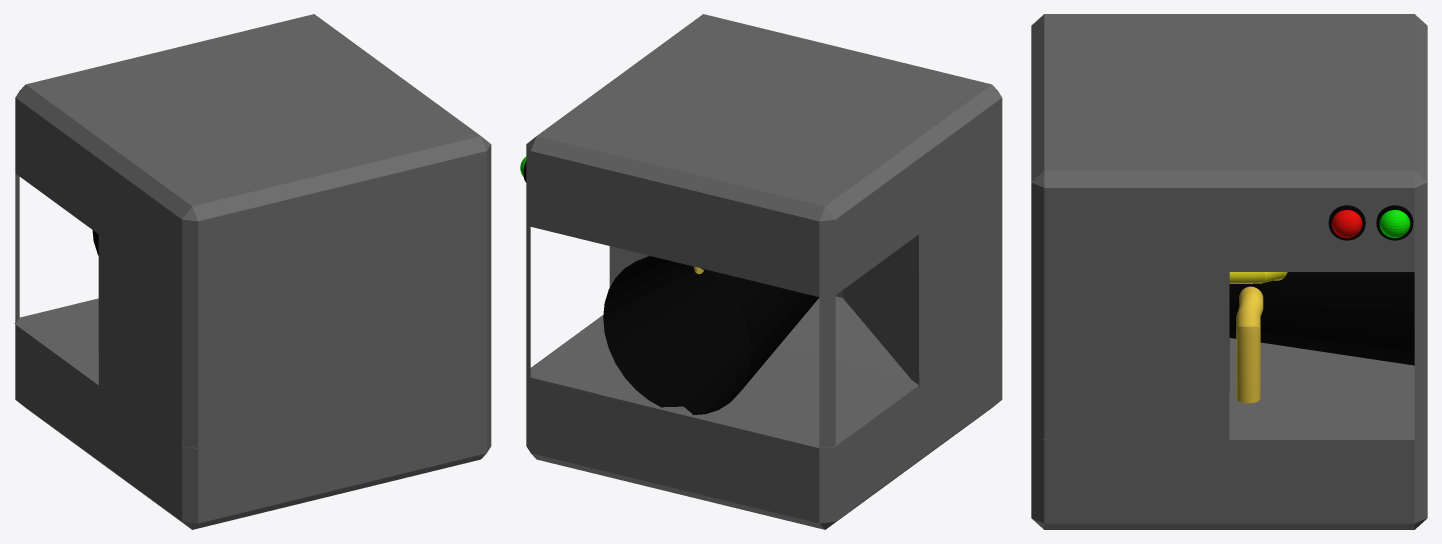
File: jetEngineCube.fbx
The picture shows the model from 3 angles, left to right: view 1: azimuth 30°, elevation 25°; view 2: azimuth 150°, elevation 25°; view 3: azimuth 270°, elevation 25°; orthographic projection. The views are drawn at different scales.
Visible parts, largest first — view 1: Cube; view 2: Cube, Cylinder.002; view 3: Cube, Cylinder.002, Cylinder.003, Sphere, Sphere.001, Cylinder.004.
Boxes of the visible parts, <box> form: Cube: <box>14,14,491,529</box>; Cube: <box>526,14,1002,529</box>; Cylinder.002: <box>603,256,819,414</box>; Cube: <box>1031,14,1427,529</box>; Cylinder.002: <box>1229,272,1414,365</box>; Cylinder.003: <box>1236,286,1263,403</box>; Sphere: <box>1379,210,1410,238</box>; Sphere.001: <box>1331,210,1362,238</box>; Cylinder.004: <box>1229,272,1287,283</box>.
Bounding box in the file's own units: 209 × 200 × 200.
